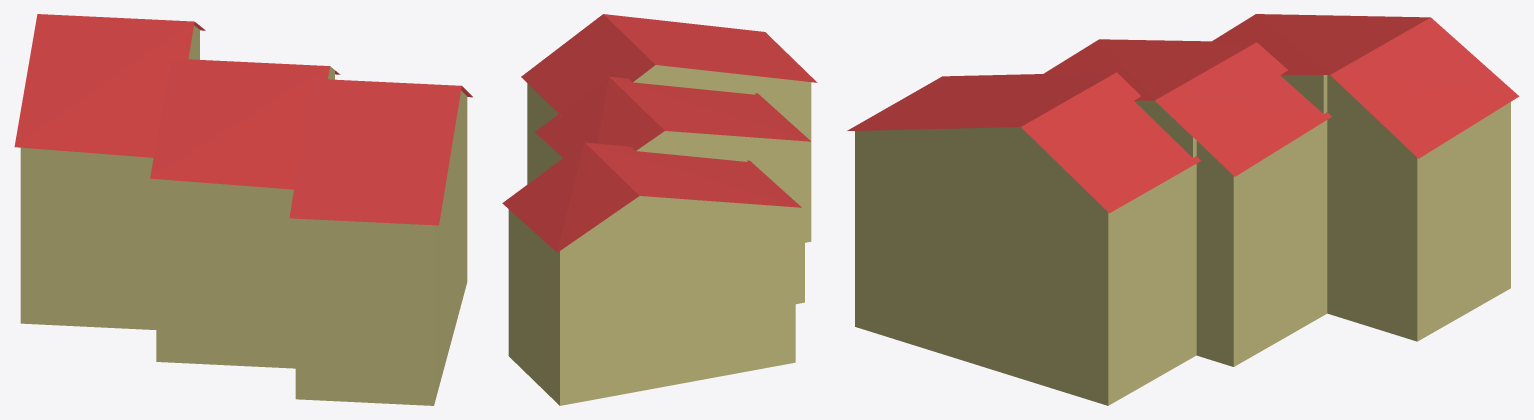
3 views of the same model, side by side, from view 1: azimuth 30°, elevation 25°; view 2: azimuth 150°, elevation 25°; view 3: azimuth 270°, elevation 25° (orthographic). The views are drawn at different scales.
Bounding box in the file's own units: 19.84 × 27.63 × 11.54.
